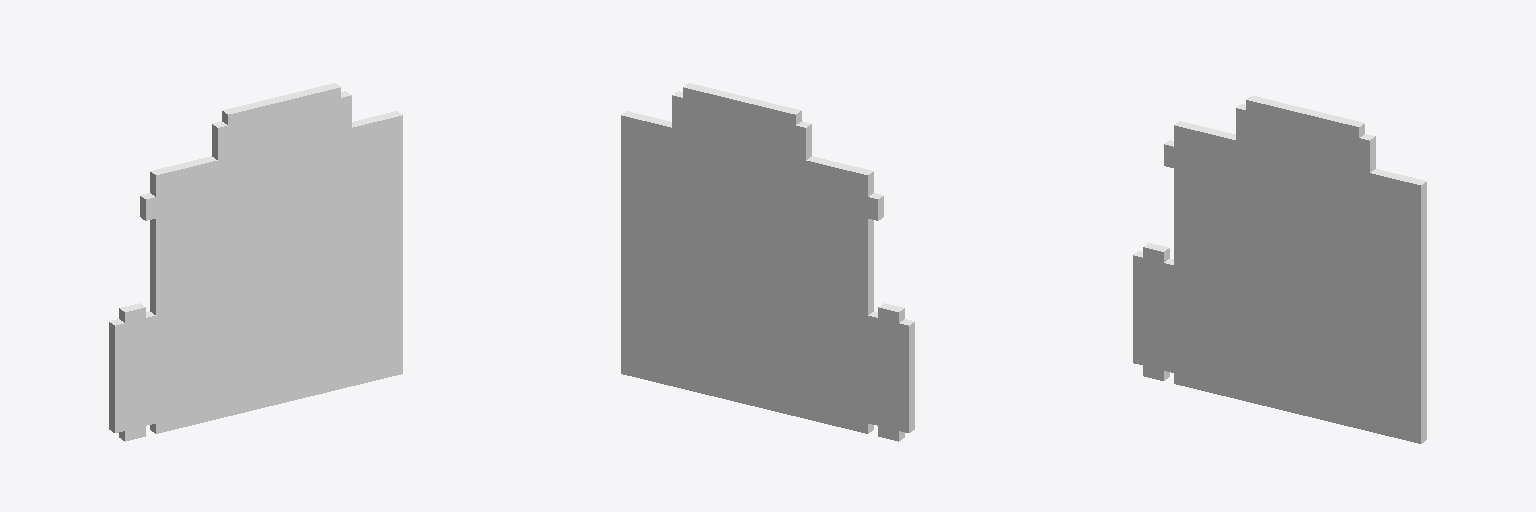
File: ShooterRobot2D.obj
The picture shows the model from 3 angles: view 1: azimuth 30°, elevation 25°; view 2: azimuth 150°, elevation 25°; view 3: azimuth 330°, elevation 25°; orthographic projection.
Parts seen in each view (by area): view 1: object 1; view 2: object 1; view 3: object 1.
Part boxes in pixels (bbox=[...]): object 1: bbox=[109, 83, 402, 441]; object 1: bbox=[621, 83, 914, 441]; object 1: bbox=[1133, 96, 1426, 443].
Bounding box in the file's own units: 2.8 × 2.8 × 0.1.